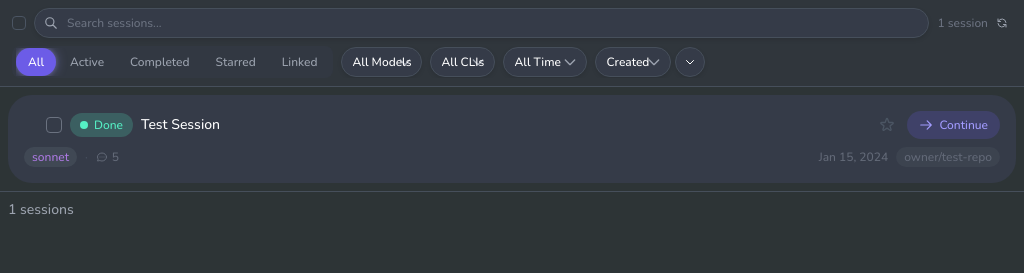
Scenario: SessionList › Bulk Operations › clears selection after successful bulk star
The width and height of the screenshot is (1024, 273).
Select the session
Click the button titled "Select": (54, 125) left=46, top=117, right=62, bottom=133
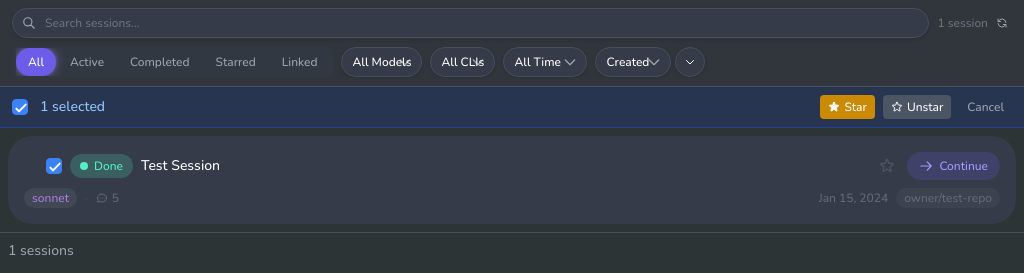
Result: the text "1 selected" is shown at left=40, top=97, right=105, bottom=117
Click Star
Click the button titled "Star selected": (848, 107) left=820, top=95, right=875, bottom=119
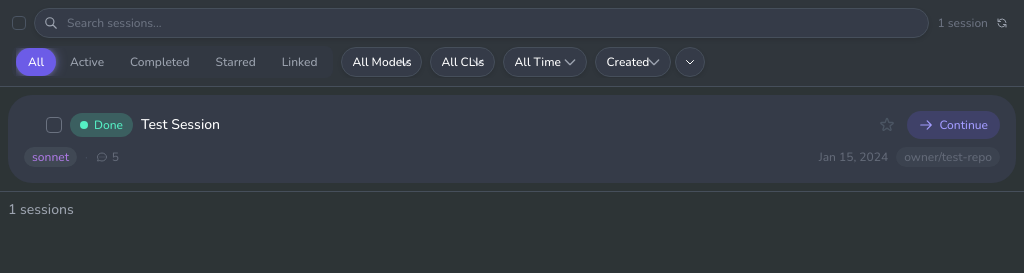
Result: the text "1 selected" is gone
